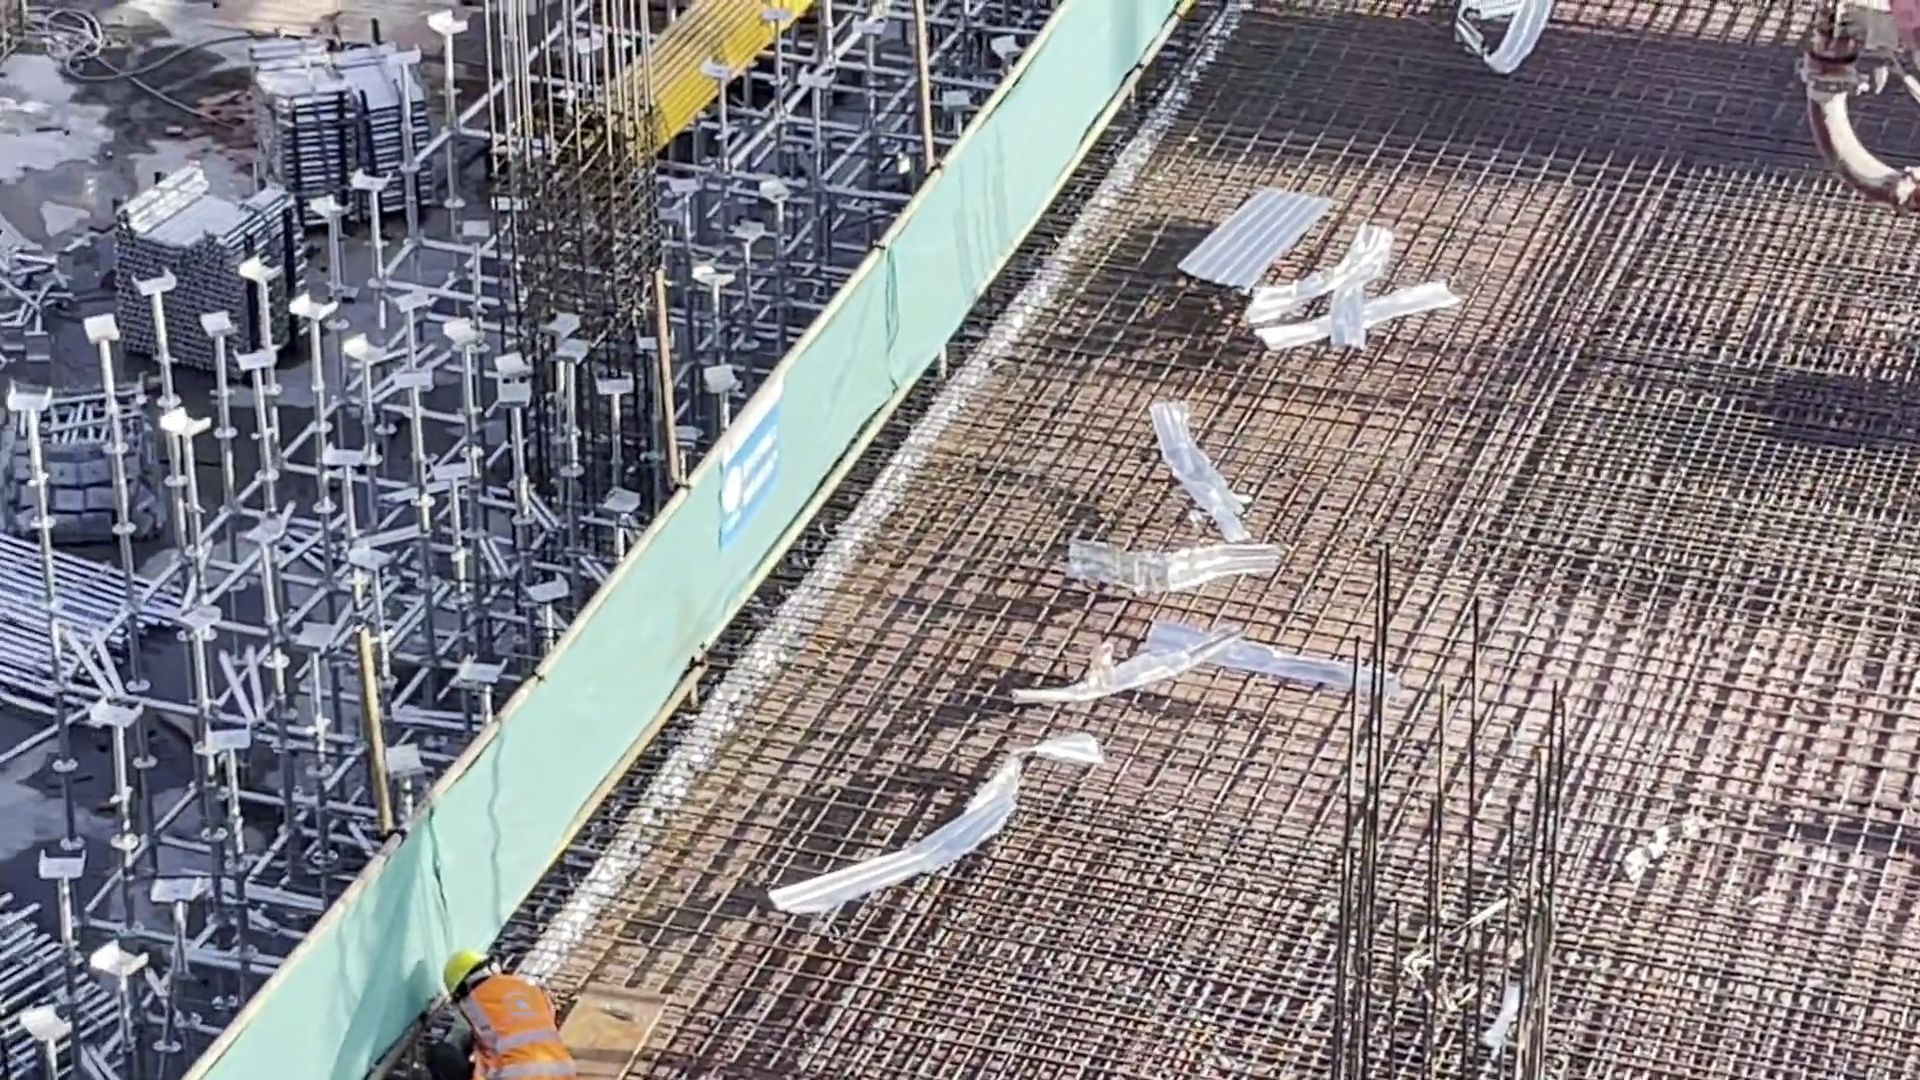cutter: (244, 1, 464, 53)
helmet: (447, 946, 487, 985)
person: (430, 943, 587, 1080)
scaffold: (1, 541, 186, 706), (283, 35, 433, 225), (1, 881, 128, 1065), (95, 195, 261, 335)
slogan: (716, 414, 779, 527)
vest: (460, 981, 569, 1080)
